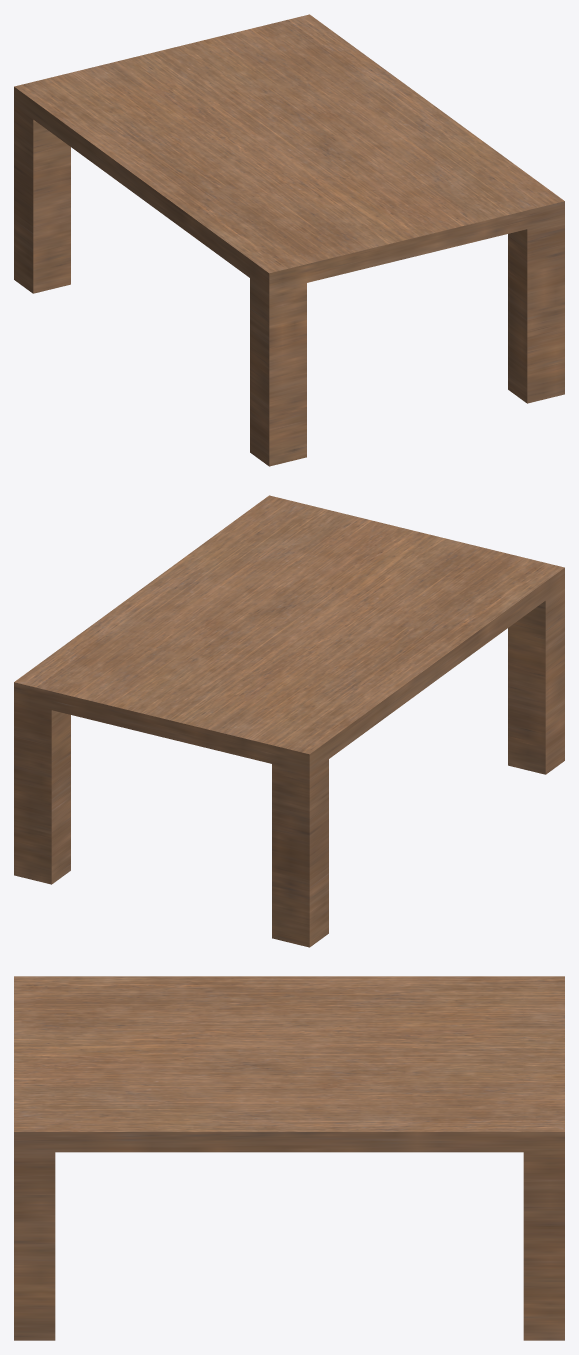
File: apartmentTable.glb
The picture shows the model from 3 angles, top to bottom: view 1: azimuth 30°, elevation 25°; view 2: azimuth 150°, elevation 25°; view 3: azimuth 270°, elevation 25°; orthographic projection. The views are drawn at different scales.
Visible parts, largest first — view 1: Cube.001; view 2: Cube.001; view 3: Cube.001.
Boxes of the visible parts, <box> form: Cube.001: <box>14,14,564,466</box>; Cube.001: <box>14,495,564,947</box>; Cube.001: <box>14,976,564,1340</box>.
Size of the model in its own units: 6.2 by 3.87 by 9.27.
1 material, 1 textured.
